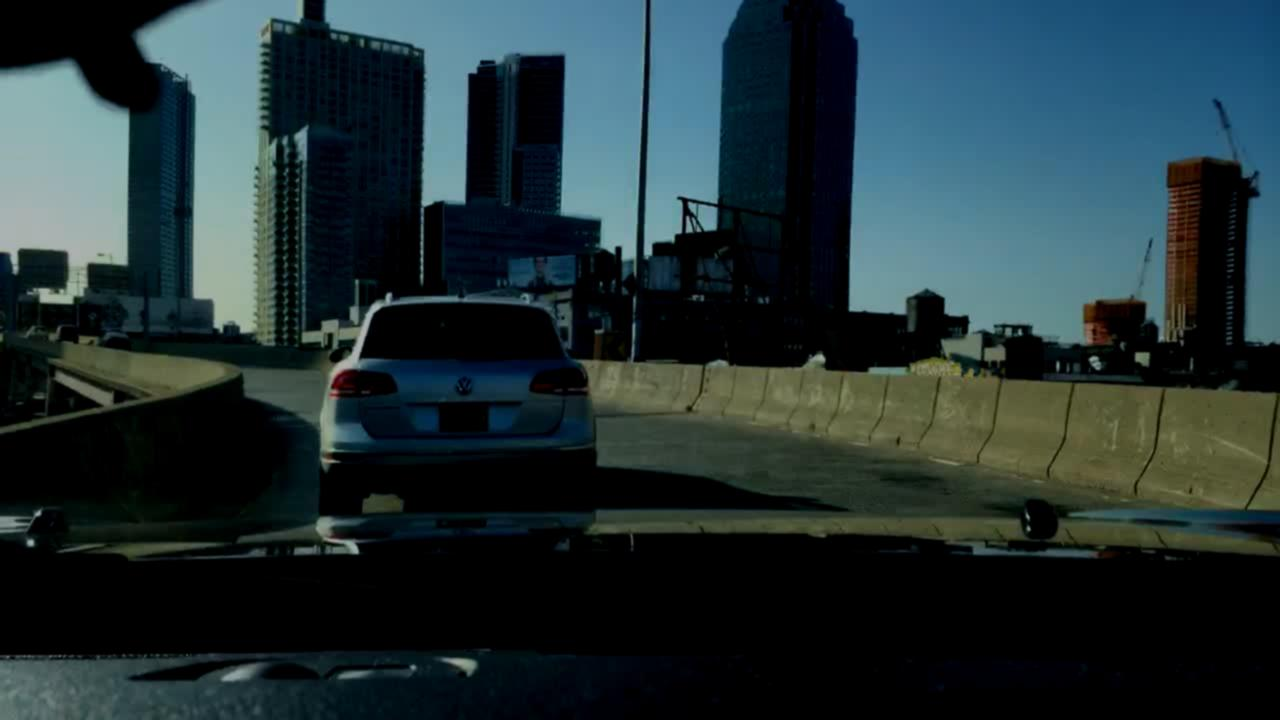Volkswagen: (452, 369, 477, 403)
